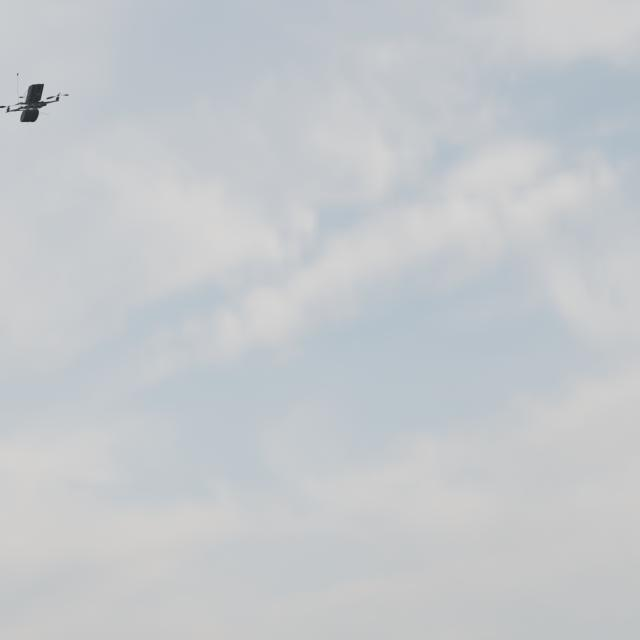drone: (0, 73, 69, 124)
